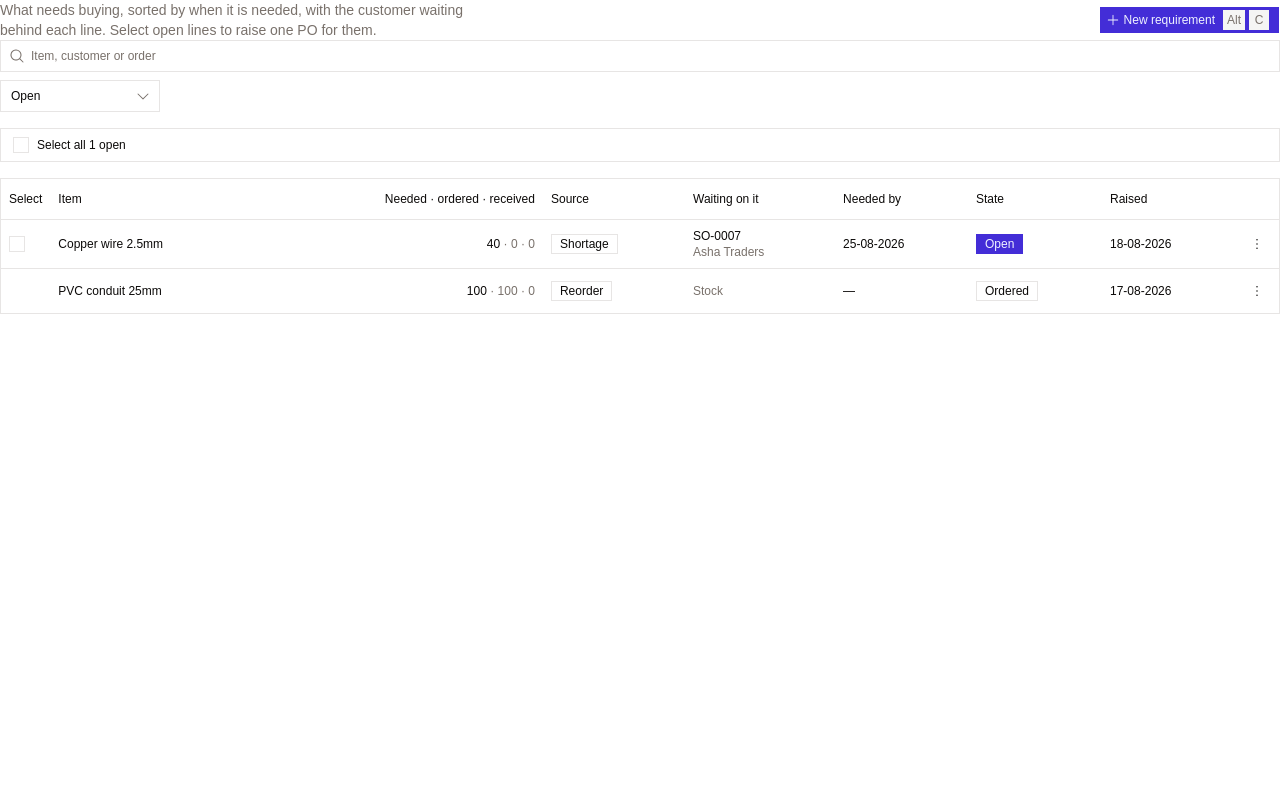
Test case: RequirementsPage › offers to raise one PO for the selected open lines
Click the checkbox named "Select Copper wire" next to "Copper wire 2.5mm".
click(17, 244)  # box [9,236,25,252]
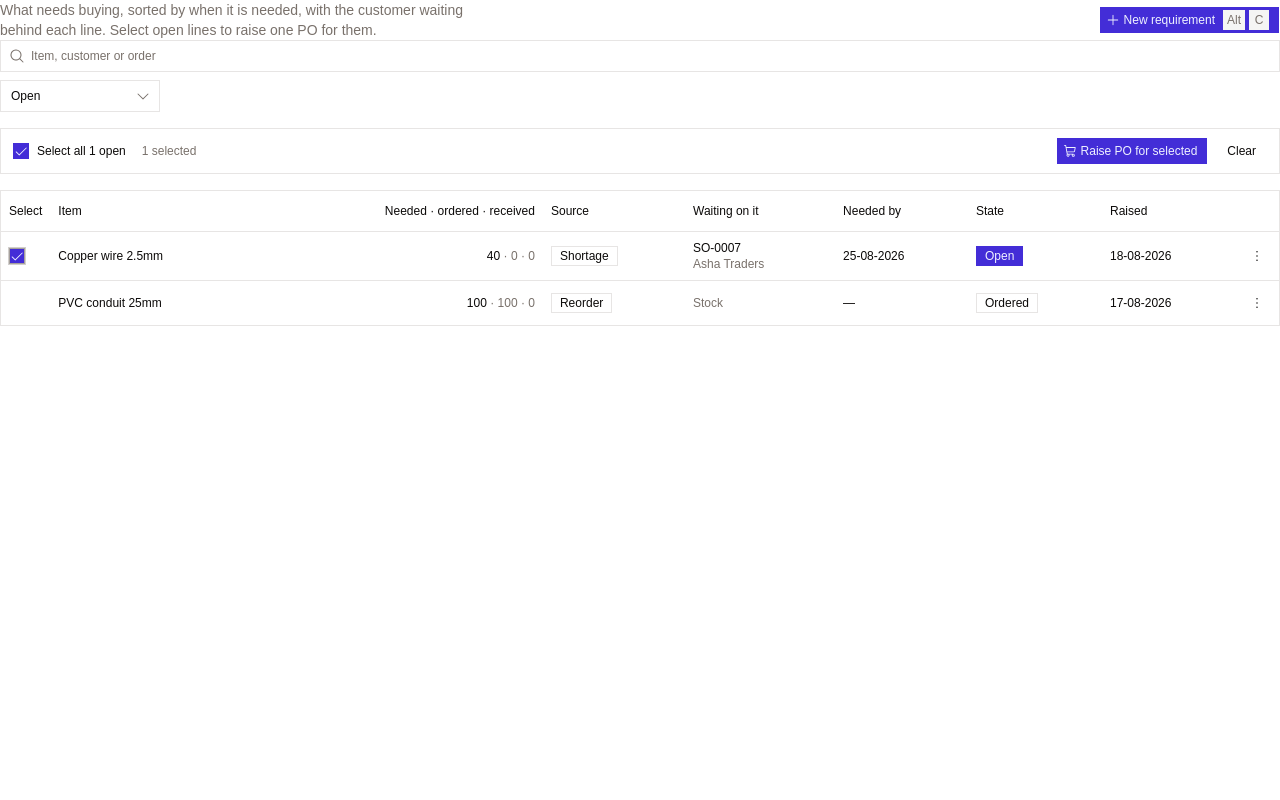
Expected: the text "1 selected" is shown, [142,143,196,159]
Click the button "Raise PO for selected".
click(1132, 151)  # box [1056,137,1208,165]
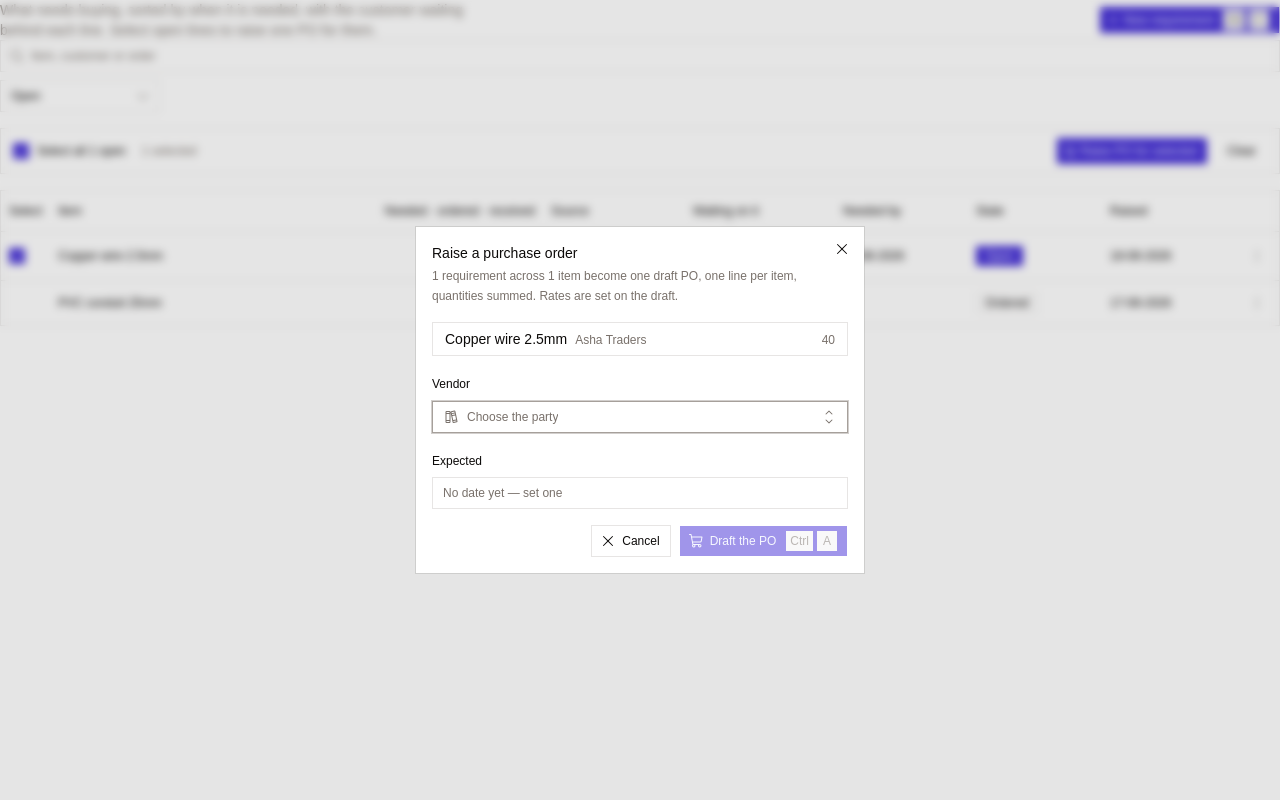
Expected: the text "become one draft PO, one line per item" is shown, [432,269,797,302]
